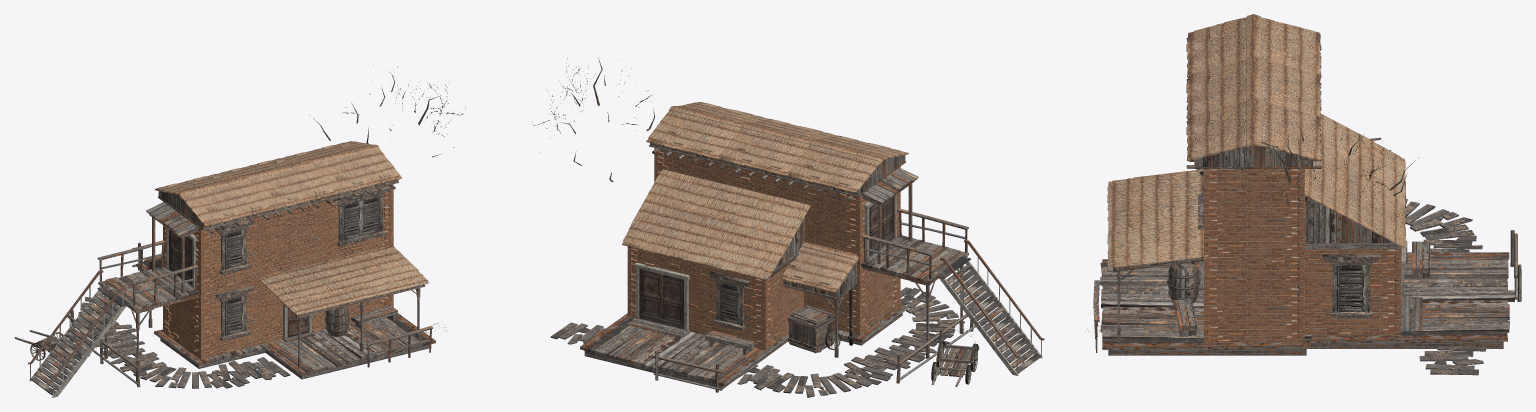
Rendered from House_02_M2.gltf.
The picture shows the model from 3 angles, left to right: view 1: azimuth 30°, elevation 25°; view 2: azimuth 150°, elevation 25°; view 3: azimuth 270°, elevation 25°; orthographic projection. The views are drawn at different scales.
Parts seen in each view (by area): view 1: RoofExtension_W6_v1, Floor_6x6 (1), Stairs_W2H3D3_v1, Wall_W3H3_T2 (5), RoofExtension_W3_v2, Woodpath_v5 (1), RoofExtension_W3_v2 (2), RoofExtension_W3_v2 (1), Wall_W_W3H3_T2, Wall_W_W3H3_T2 (2), Roof_W3D3_v1, Window_W_v2 (×2) (+27 smaller); view 2: Roof_W6D6_v3, Floor_6x6, Stairs_W2H3D3_v1, RoofExtension_W3_v2 (5), Woodpath_v5, RoofExtension_W3_v2 (3), RoofExtension_W3_v2 (4), RoofExtension_W3_v2 (6), Wall_W3H3_T2 (7), Wall_W_W3H3_T2 (1), Woodpath_v5 (1), Wall_W6H3_T2 (+28 smaller); view 3: Roof_W6D6_v3, Floor_6x6, RoofExtension_W6_v1, Floor_6x6 (1), Wall_W3H3_T2 (4), Wall_W3H3_T2 (8), Wall_W_W3H3_T2 (3), RoofExtension_W3_v2 (2), RoofExtension_W3_v2 (3), RoofExtension_W3_v2, RoofExtension_W3_v2 (5), RoofExtension_W3_v2 (4) (+16 smaller).
Boxes of the visible parts, <box> form: RoofExtension_W6_v1: <box>259,246,429,317</box>; Floor_6x6 (1): <box>263,313,435,379</box>; Stairs_W2H3D3_v1: <box>28,270,130,397</box>; Wall_W3H3_T2 (5): <box>265,201,328,275</box>; RoofExtension_W3_v2: <box>178,176,272,230</box>; Woodpath_v5 (1): <box>103,346,290,388</box>; RoofExtension_W3_v2 (2): <box>310,144,401,198</box>; RoofExtension_W3_v2 (1): <box>246,160,337,214</box>; Wall_W_W3H3_T2: <box>204,279,264,356</box>; Wall_W_W3H3_T2 (2): <box>204,216,264,290</box>; Roof_W3D3_v1: <box>98,266,199,312</box>; Window_W_v2 (×2): <box>214,220,253,341</box>; Roof_W6D6_v3: <box>622,169,810,280</box>; Floor_6x6: <box>580,313,788,389</box>; Stairs_W2H3D3_v1: <box>935,239,1044,375</box>; RoofExtension_W3_v2 (5): <box>788,139,883,197</box>; Woodpath_v5: <box>735,347,921,397</box>; RoofExtension_W3_v2 (3): <box>646,106,742,163</box>; RoofExtension_W3_v2 (4): <box>719,122,811,180</box>; RoofExtension_W3_v2 (6): <box>781,241,858,299</box>; Wall_W3H3_T2 (7): <box>791,182,855,252</box>; Wall_W_W3H3_T2 (1): <box>697,263,761,347</box>; Woodpath_v5 (1): <box>889,287,964,360</box>; Wall_W6H3_T2: <box>659,150,791,200</box>; Roof_W6D6_v3: <box>1304,114,1405,248</box>; Floor_6x6: <box>1307,252,1515,348</box>; RoofExtension_W6_v1: <box>1107,169,1209,272</box>; Floor_6x6 (1): <box>1100,259,1312,355</box>; Wall_W3H3_T2 (4): <box>1210,254,1297,343</box>; Wall_W3H3_T2 (8): <box>1210,169,1297,255</box>; Wall_W_W3H3_T2 (3): <box>1304,249,1394,335</box>; RoofExtension_W3_v2 (2): <box>1186,97,1253,168</box>; RoofExtension_W3_v2 (3): <box>1254,97,1321,168</box>; RoofExtension_W3_v2: <box>1186,14,1253,76</box>; RoofExtension_W3_v2 (5): <box>1254,14,1321,73</box>; RoofExtension_W3_v2 (4): <box>1254,56,1321,115</box>.
Size of what is drawn, in the model's own units: 21.28 by 10.33 by 13.85.
Materials: 2 (2 with a texture image).
